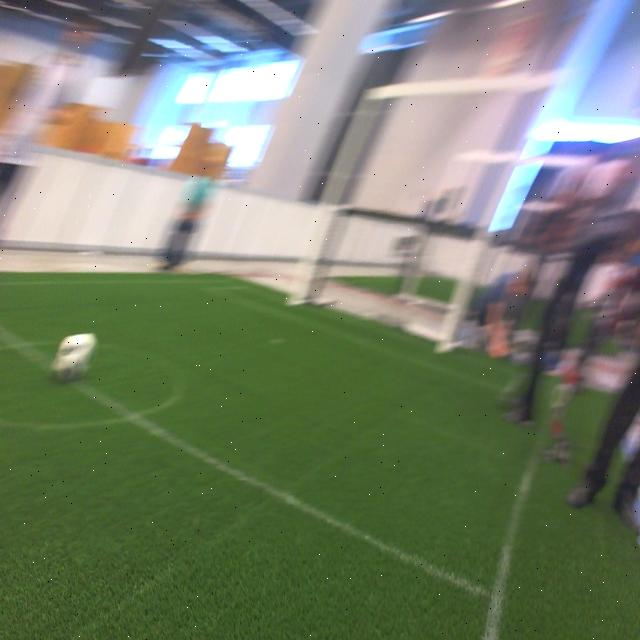ball: (51, 330, 100, 385)
goalpost: (433, 63, 567, 355), (283, 82, 386, 310)
